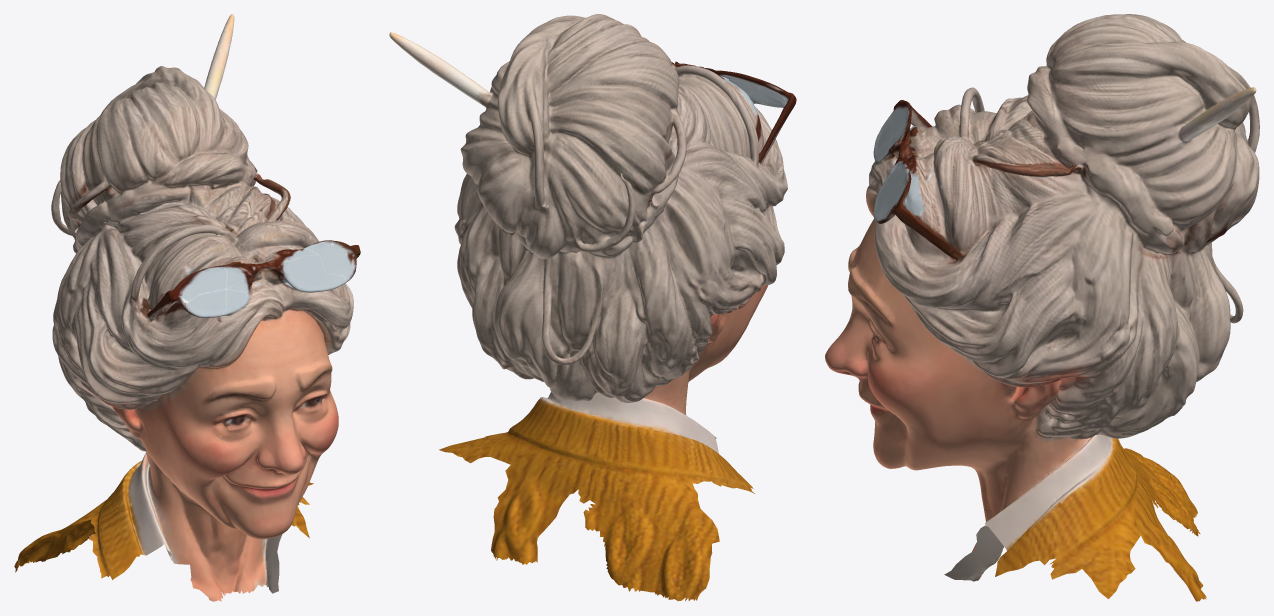
Rendered from AbuelaCabeza.obj.
3 renders of one model, left to right at view 1: azimuth 30°, elevation 25°; view 2: azimuth 150°, elevation 25°; view 3: azimuth 270°, elevation 25°, orthographic. The views are drawn at different scales.
Parts seen in each view (by area): view 1: AbuelaCabeza; view 2: AbuelaCabeza; view 3: AbuelaCabeza.
Part boxes in pixels (bbox=[...]): AbuelaCabeza: bbox=[14, 14, 360, 601]; AbuelaCabeza: bbox=[389, 14, 796, 601]; AbuelaCabeza: bbox=[825, 14, 1259, 601].
Size of the model in its own units: 0.2436 by 0.4088 by 0.289.
Materials: 1 (1 with a texture image).
